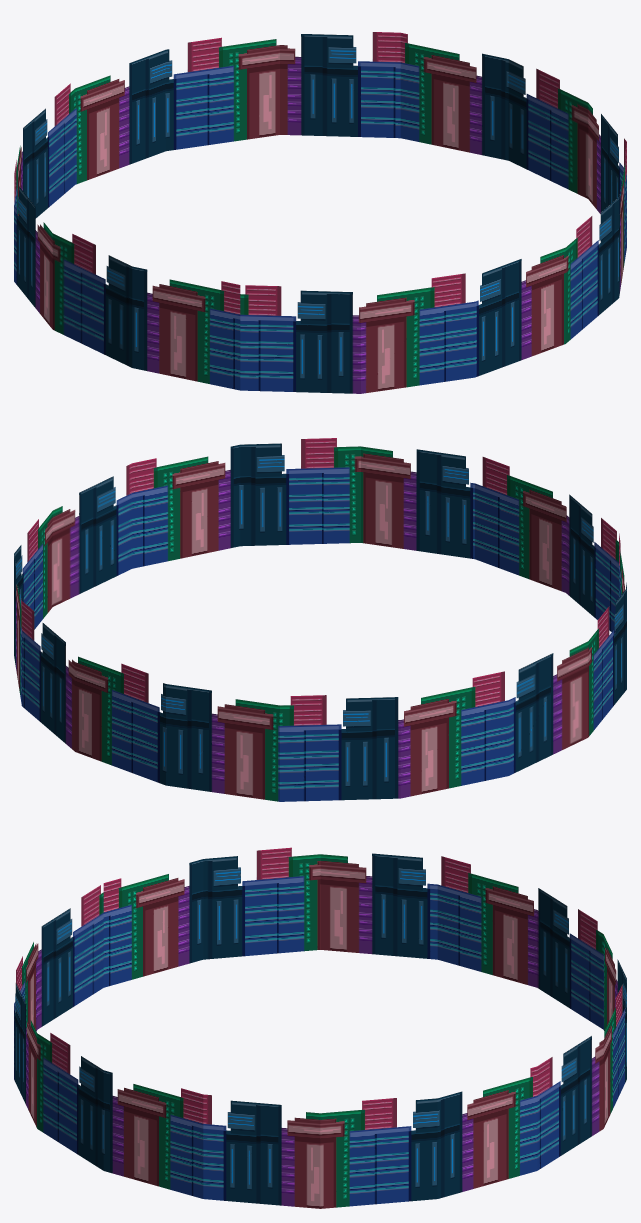
The model's file is parallax.fbx.
3 views of the same model, one above another, from view 1: azimuth 30°, elevation 25°; view 2: azimuth 150°, elevation 25°; view 3: azimuth 270°, elevation 25° (orthographic).
Visible parts, largest first — view 1: Cylinder; view 2: Cylinder; view 3: Cylinder.
Part boxes in pixels (x1=…): Cylinder: x1=14, y1=32, x2=626, y2=393; Cylinder: x1=14, y1=438, x2=626, y2=801; Cylinder: x1=14, y1=847, x2=626, y2=1208.
Size of the model in its own units: 3022 by 652 by 3022.
1 material, 1 textured.
